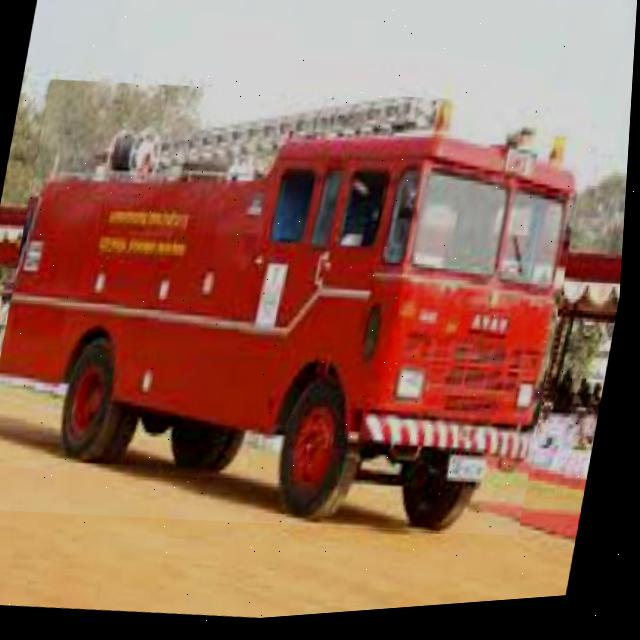Fire Truck: (0, 48, 600, 577)
